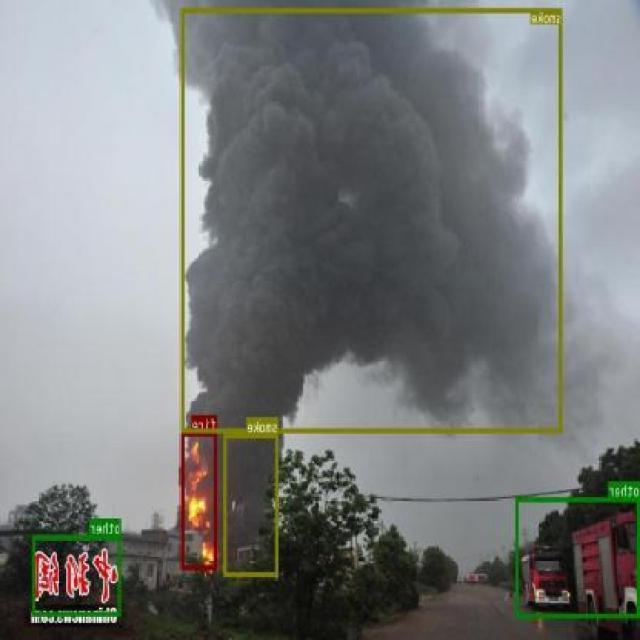Fire: (182, 429, 218, 568)
Smoke: (182, 6, 564, 432), (223, 432, 280, 576)
